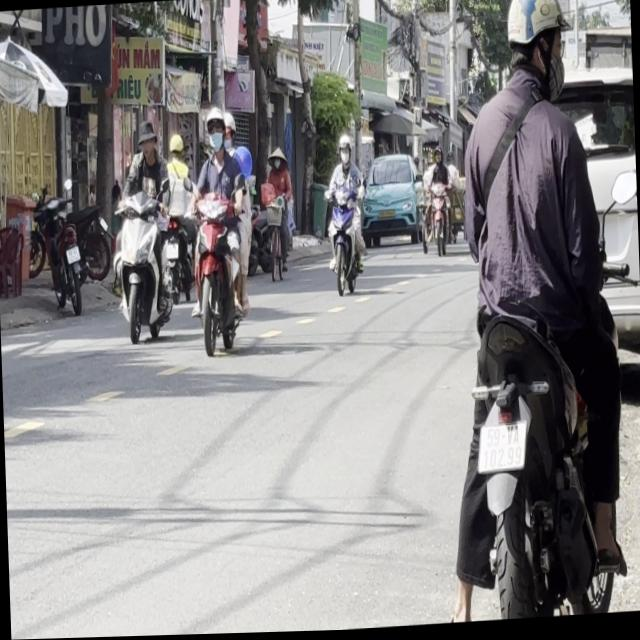helmet: (501, 0, 566, 95), (203, 106, 226, 156), (220, 109, 234, 149), (336, 135, 352, 165)
licenseplate: (430, 0, 640, 625), (185, 104, 255, 356), (108, 116, 176, 346), (320, 132, 368, 299)
motorcyclist: (136, 119, 157, 162)
nohelmet: (476, 425, 526, 474)
